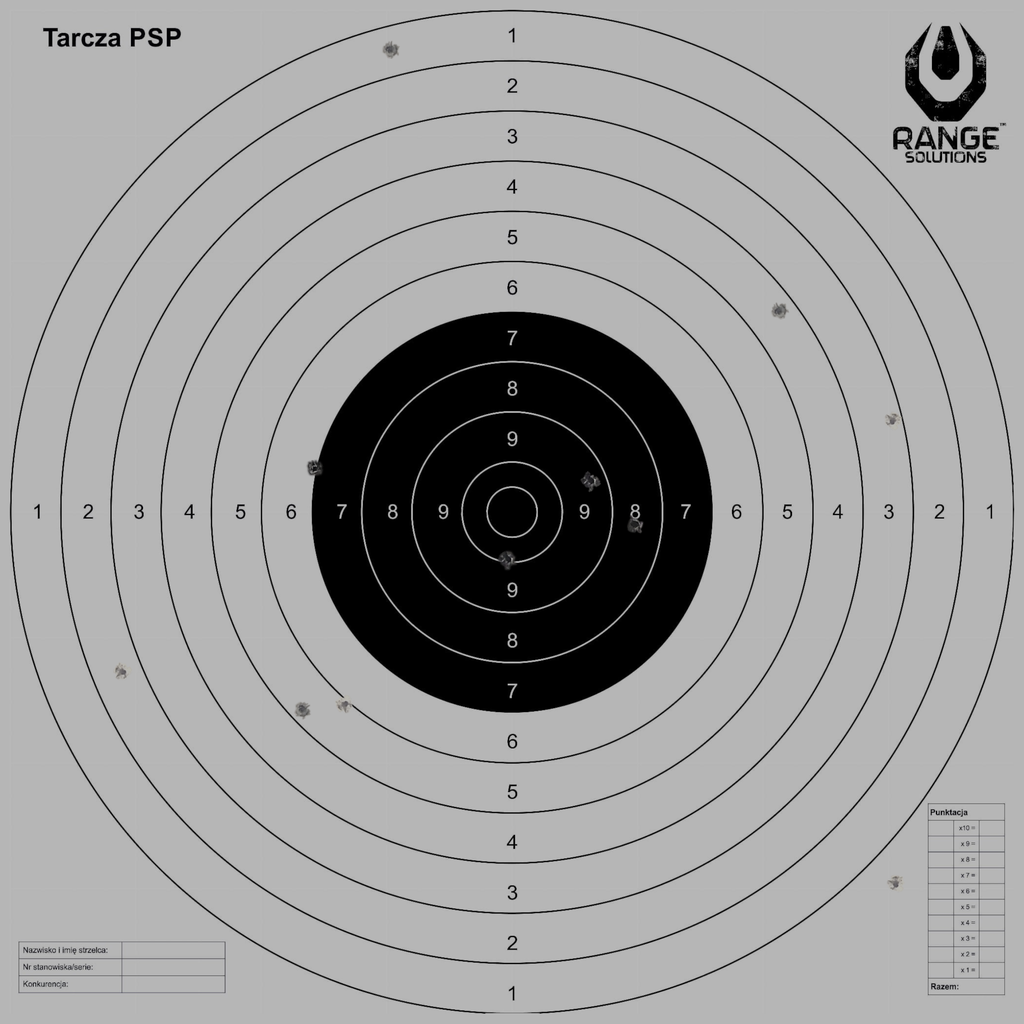0 punktow: (886, 875, 905, 893)
1 punkt: (381, 40, 399, 59)
10 punktow: (499, 550, 517, 569)
2 punkty: (113, 663, 132, 681)
3 punkty: (883, 412, 902, 430)
4 punkty: (770, 302, 788, 320)
5 punktow: (293, 700, 312, 719)
6 punktow: (336, 695, 354, 714)
7 punktow: (305, 460, 324, 478)
8 punktow: (626, 515, 644, 534)
9 punktow: (581, 471, 600, 490)
